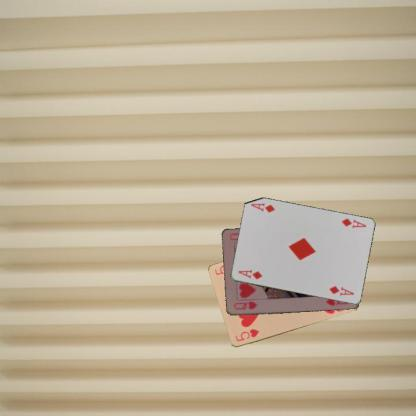5h: (233, 326, 260, 342)
Ad: (338, 216, 368, 230), (235, 267, 263, 281)
Qh: (231, 299, 258, 311)
